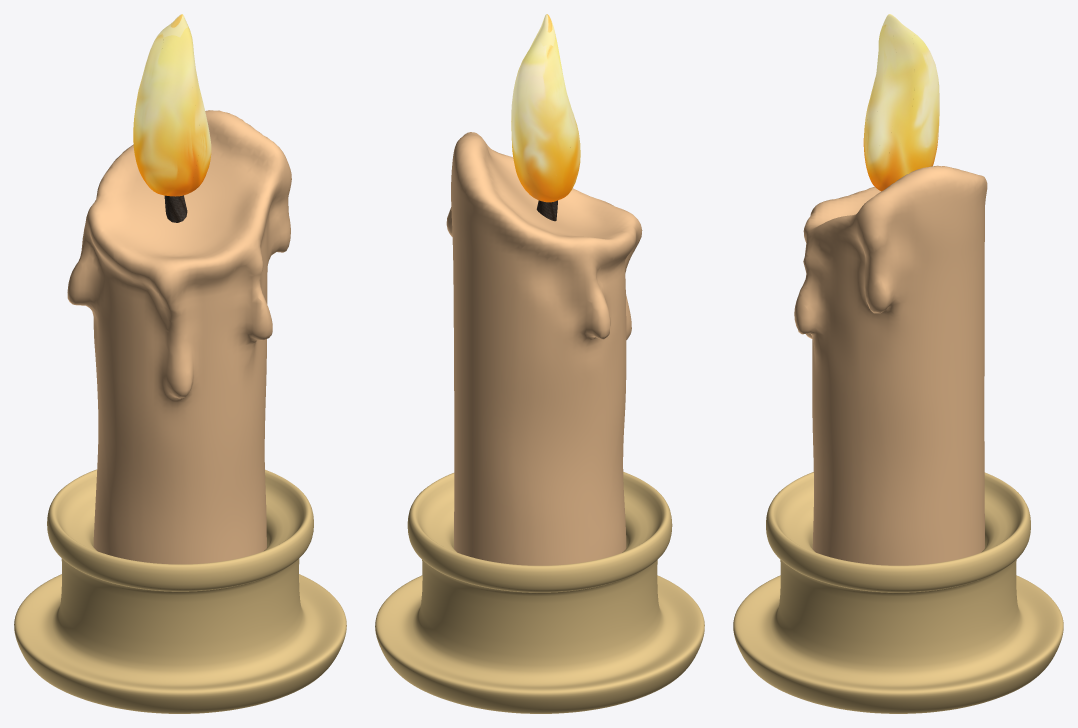
Rendered from CandleThatPlayerHolds.glb.
3 views of the same model, side by side, from view 1: azimuth 30°, elevation 25°; view 2: azimuth 150°, elevation 25°; view 3: azimuth 270°, elevation 25° (orthographic).
Visible parts, largest first — view 1: Wachs, Ständer, Flamme, Docht; view 2: Wachs, Ständer, Flamme; view 3: Wachs, Ständer, Flamme.
Boxes of the visible parts, box(x1,y1,x2,y2) form: Wachs: box(67, 110, 291, 564); Ständer: box(14, 469, 346, 713); Flamme: box(133, 14, 211, 196); Docht: box(164, 195, 187, 222); Wachs: box(446, 132, 642, 565); Ständer: box(375, 472, 704, 713); Flamme: box(511, 14, 580, 202); Wachs: box(794, 165, 987, 565); Ständer: box(733, 472, 1063, 713); Flamme: box(863, 14, 939, 191).
Size of the model in its own units: 0.4564 by 0.9693 by 0.4564.
4 materials, 2 textured.
